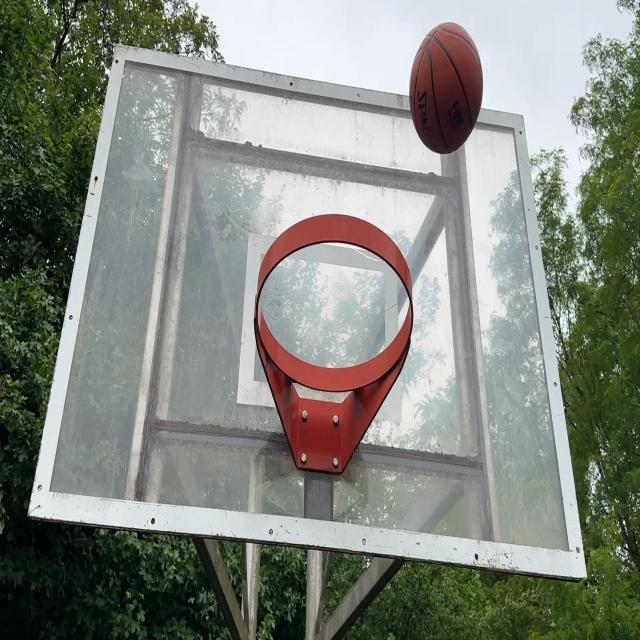Basketball: (410, 23, 483, 155)
